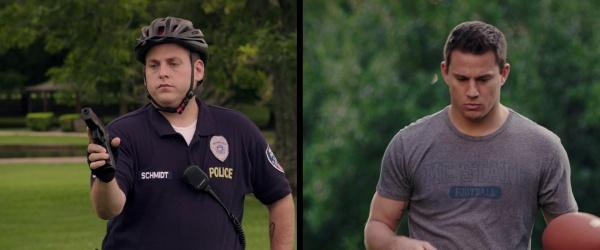Gun: (81, 107, 116, 182)
